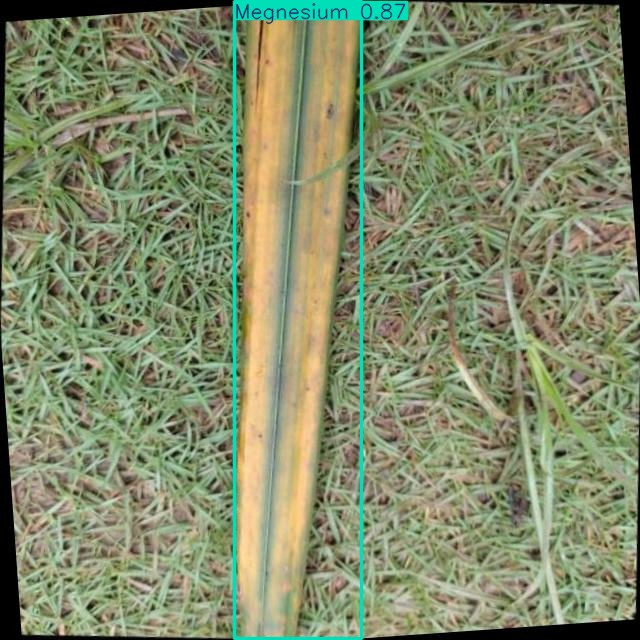Megnesium: (234, 1, 362, 639)
